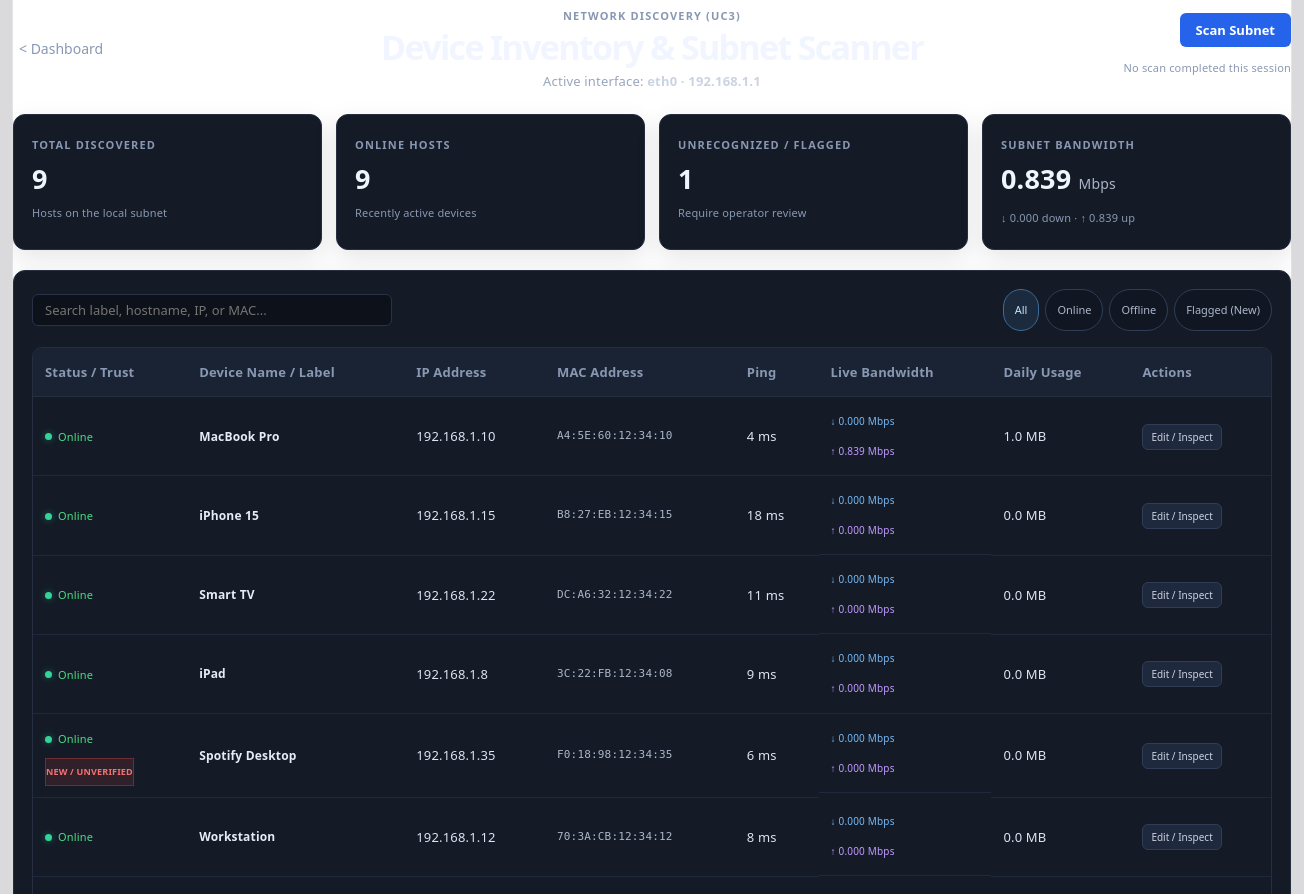
Test: DevicesPage › simulates a subnet scan and adds a flagged newly discovered host
Step 1. Click the button "Scan Subnet" → (1235, 30), box [1180, 13, 1291, 47]
Wait 1600 ms
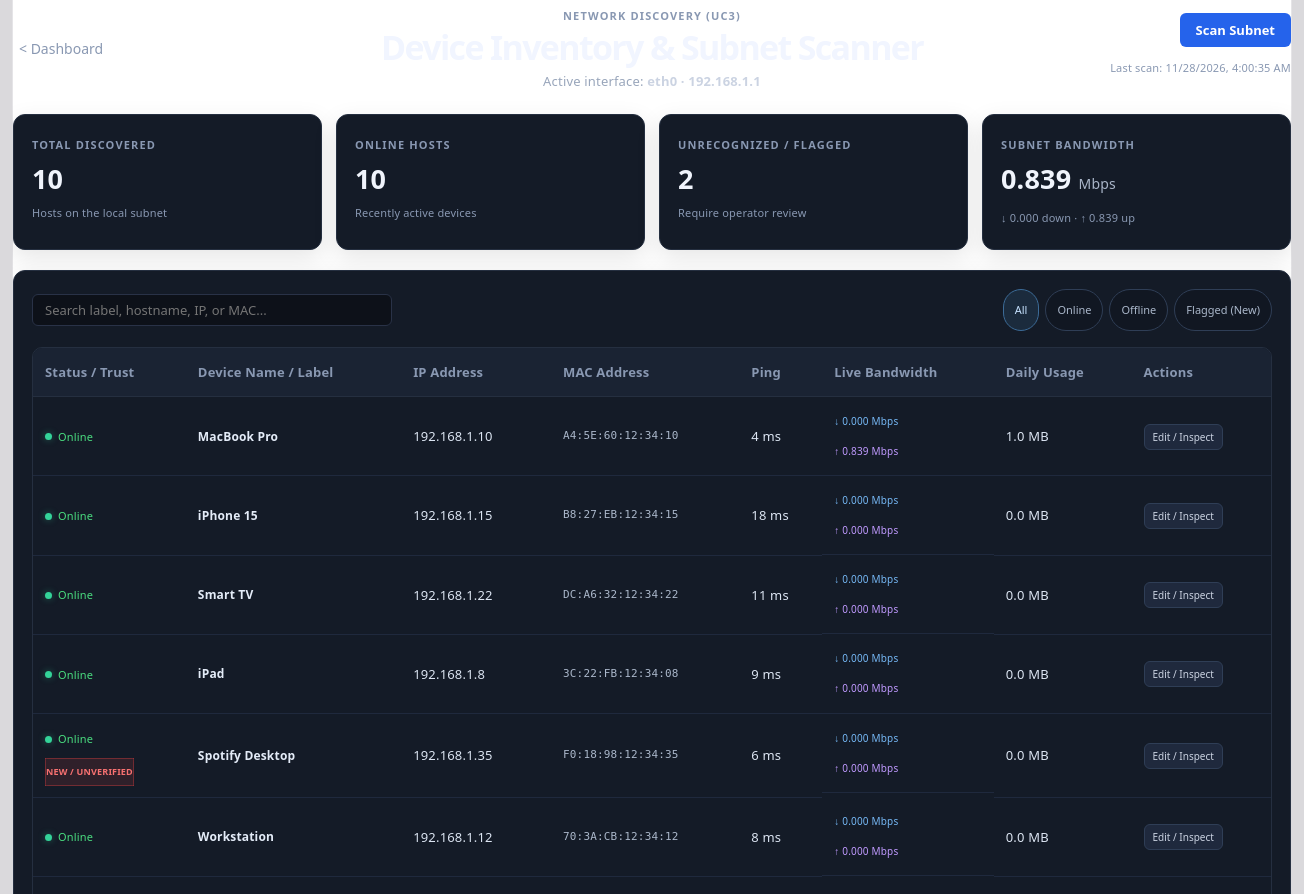
Check: the text "Last scan: 11/28/2026, 4:00:35 AM" is shown, box [1110, 60, 1291, 75]
